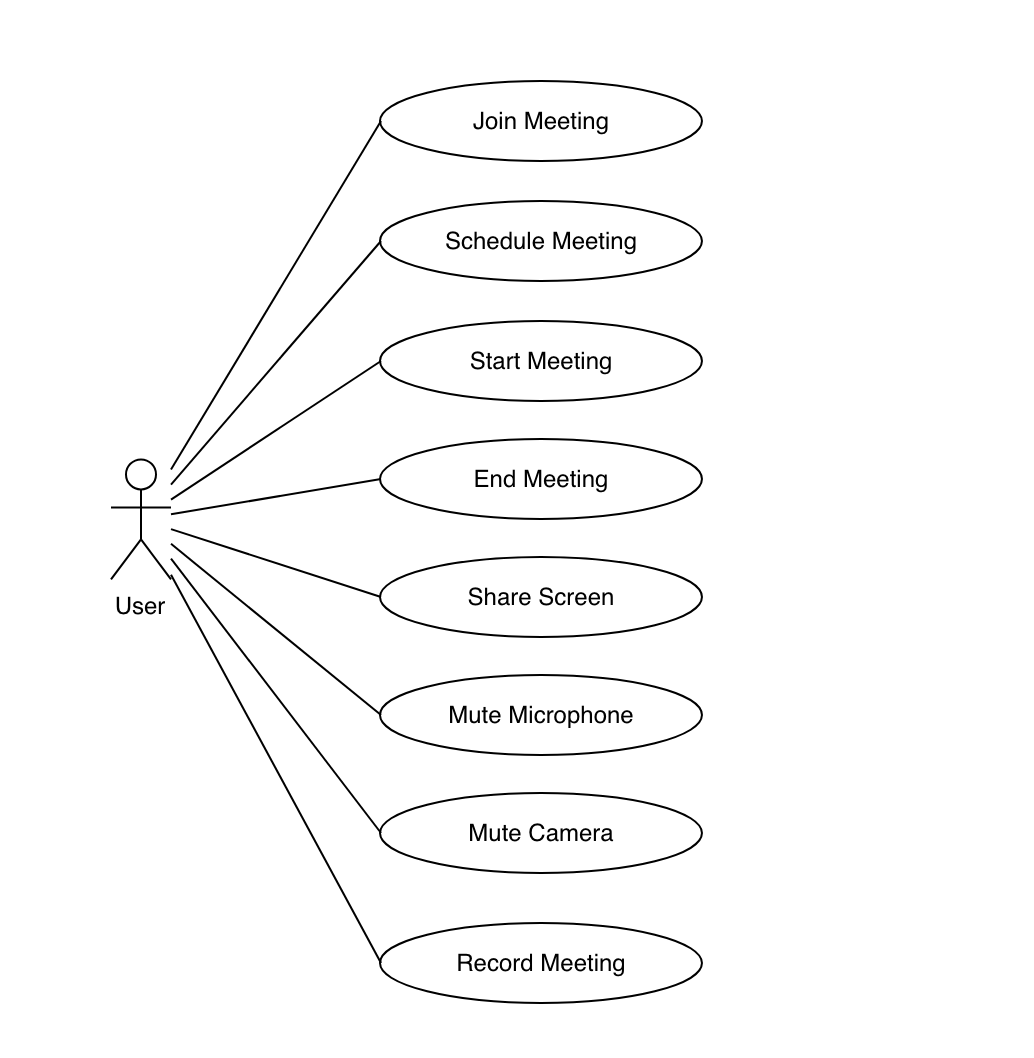actor: (108, 451, 174, 585)
association: (178, 585, 380, 956), (170, 120, 380, 470), (170, 559, 377, 831), (169, 242, 378, 488), (170, 548, 382, 715), (167, 361, 380, 501), (171, 525, 379, 601), (167, 475, 381, 518)
text: (435, 940, 650, 985), (428, 224, 653, 265), (434, 692, 648, 733), (451, 577, 631, 623), (462, 340, 633, 386), (456, 457, 622, 503), (459, 815, 629, 859), (474, 100, 627, 139), (110, 588, 177, 627)
use_case: (376, 76, 704, 169), (375, 920, 708, 1007), (376, 671, 705, 759), (378, 553, 706, 641), (378, 790, 705, 877), (378, 318, 704, 405), (377, 198, 706, 284), (378, 436, 705, 522)
